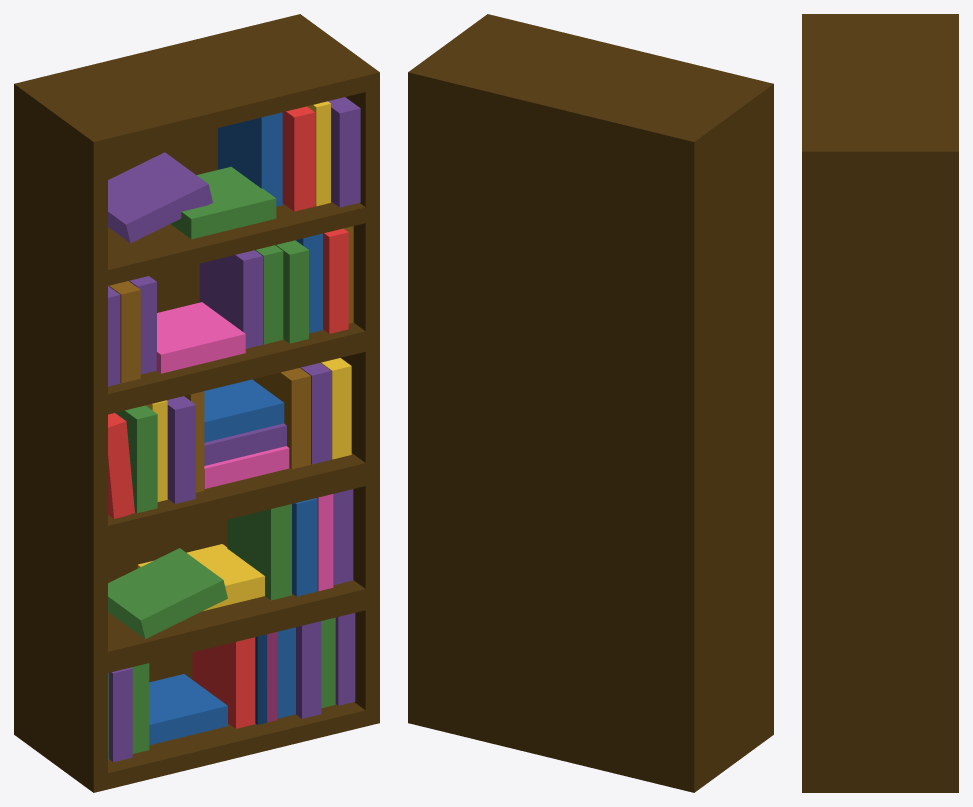
Rendered from geo_LargeBookShelf.fbx.
The picture shows the model from 3 angles, left to right: view 1: azimuth 30°, elevation 25°; view 2: azimuth 150°, elevation 25°; view 3: azimuth 270°, elevation 25°; orthographic projection.
Visible parts, largest first — view 1: pCube64, pCube133, pCube98, pCube112, pCube108, pCube135, pCube97, pCube126, pCube99, pCube127, pCube71, pCube100 (+30 smaller); view 2: pCube64; view 3: pCube64.
Part boxes in pixels (left/top/right/bottom): pCube64: left=14, top=14, right=379, bottom=792; pCube133: left=108, top=548, right=227, bottom=638; pCube98: left=108, top=152, right=212, bottom=243; pCube112: left=156, top=302, right=245, bottom=373; pCube108: left=199, top=250, right=262, bottom=348; pCube135: left=227, top=504, right=291, bottom=600; pCube97: left=170, top=166, right=276, bottom=239; pCube126: left=149, top=674, right=227, bottom=745; pCube99: left=218, top=112, right=282, bottom=206; pCube127: left=192, top=637, right=255, bottom=728; pCube71: left=204, top=379, right=284, bottom=442; pCube100: left=282, top=106, right=315, bottom=211; pCube64: left=408, top=14, right=773, bottom=792; pCube64: left=802, top=14, right=958, bottom=792.
Bounding box in the file's own units: 101 × 219 × 48.61.
Materials: 1 (1 with a texture image).
